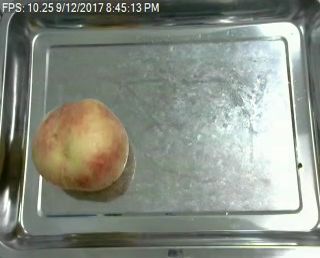Peach: (33, 98, 129, 192)
